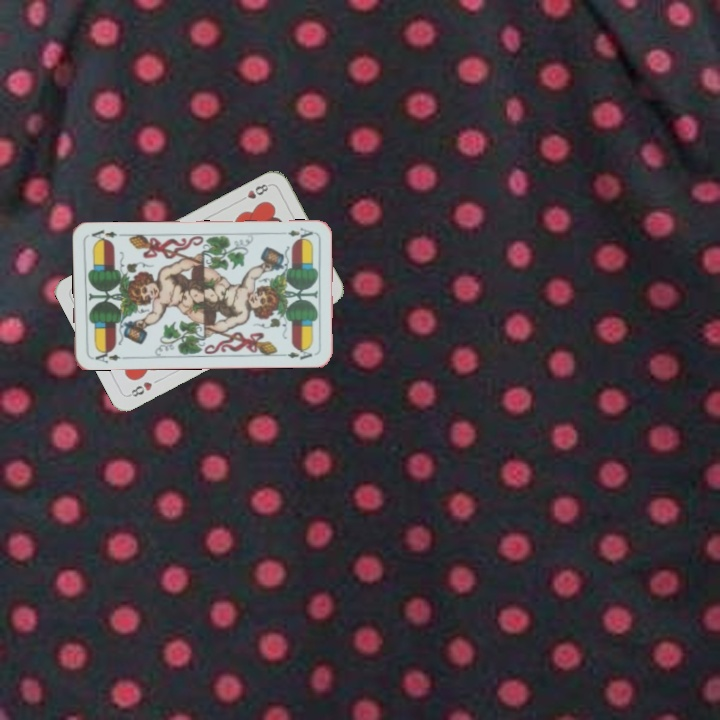EA: (88, 346, 123, 365), (284, 224, 316, 242)
H8: (235, 180, 272, 204), (125, 378, 155, 399)
